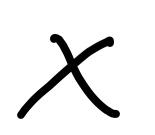mult: (14, 33, 118, 119)
